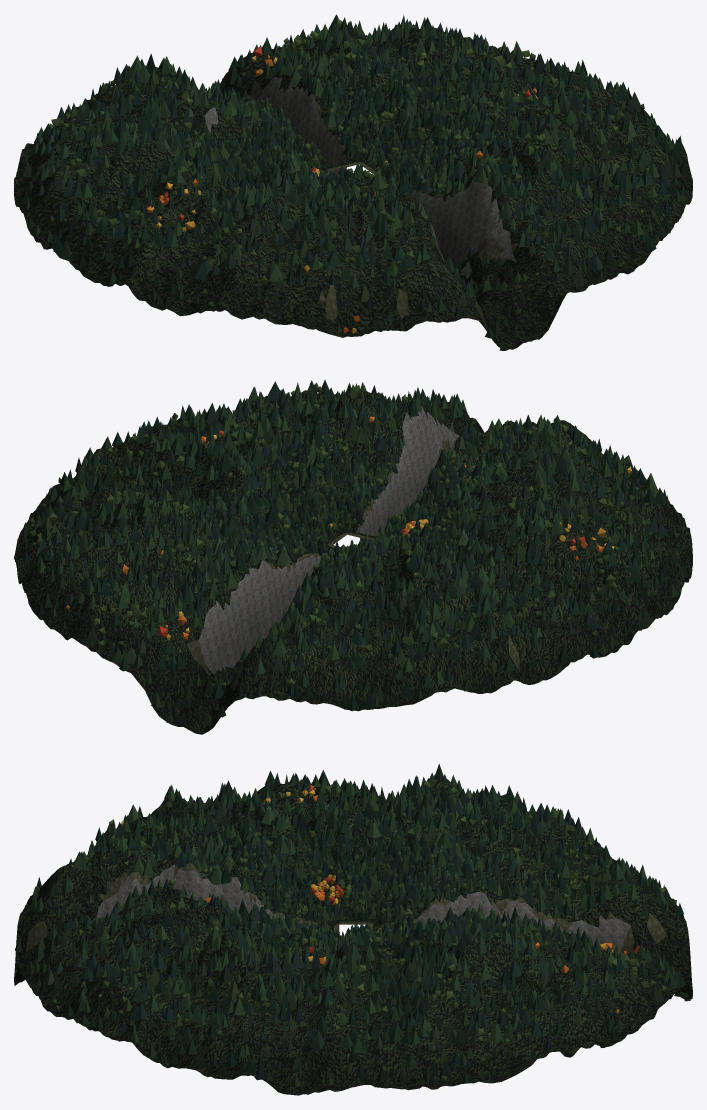
Rendered from backdrop_near_rect_ascent_summer.glb.
The picture shows the model from 3 angles, top to bottom: view 1: azimuth 30°, elevation 25°; view 2: azimuth 150°, elevation 25°; view 3: azimuth 270°, elevation 25°; orthographic projection.
Parts seen in each view (by area): view 1: near_land_S, trees_land_W_0, near_land_W, trees_land_S_0, trees_land_E_0, trees_land_N_0, near_land_E, near_land_N; view 2: near_land_N, trees_land_N_0, trees_land_W_0, near_land_W, trees_land_E_0, trees_land_S_0, near_land_S, near_land_E; view 3: near_land_E, trees_land_E_0, trees_land_W_0, near_land_S, trees_land_N_0, trees_land_S_0, near_land_N, near_land_W.
Boxes of the visible parts, box(x1,y1,x2,y2) form: near_land_S: box(265, 125, 680, 350); trees_land_W_0: box(21, 89, 336, 308); near_land_W: box(14, 102, 328, 319); trees_land_S_0: box(269, 116, 671, 350); trees_land_E_0: box(359, 22, 690, 201); trees_land_N_0: box(40, 14, 431, 166); near_land_E: box(358, 27, 692, 217); near_land_N: box(26, 28, 420, 173); near_land_N: box(26, 510, 442, 734); trees_land_N_0: box(37, 500, 435, 726); trees_land_W_0: box(385, 451, 690, 691); near_land_W: box(387, 461, 692, 693); trees_land_E_0: box(22, 386, 344, 573); trees_land_S_0: box(267, 380, 671, 534); near_land_S: box(276, 389, 676, 540); near_land_E: box(14, 395, 351, 592); near_land_E: box(112, 915, 592, 1095); trees_land_E_0: box(129, 906, 582, 1087); trees_land_W_0: box(137, 764, 586, 921); near_land_S: box(14, 817, 340, 1039); trees_land_N_0: box(376, 808, 690, 1041); trees_land_S_0: box(15, 804, 330, 1033); near_land_N: box(373, 819, 692, 1047); near_land_W: box(140, 779, 565, 925).
Size of the model in its own units: 577 by 177 by 576.
4 materials, 3 textured.
